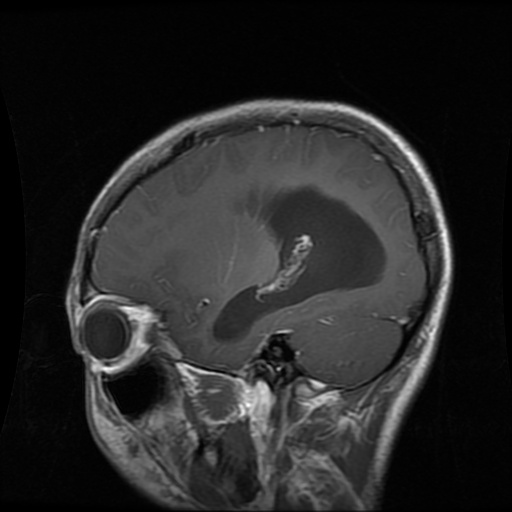glioma: (211, 183, 385, 341)
